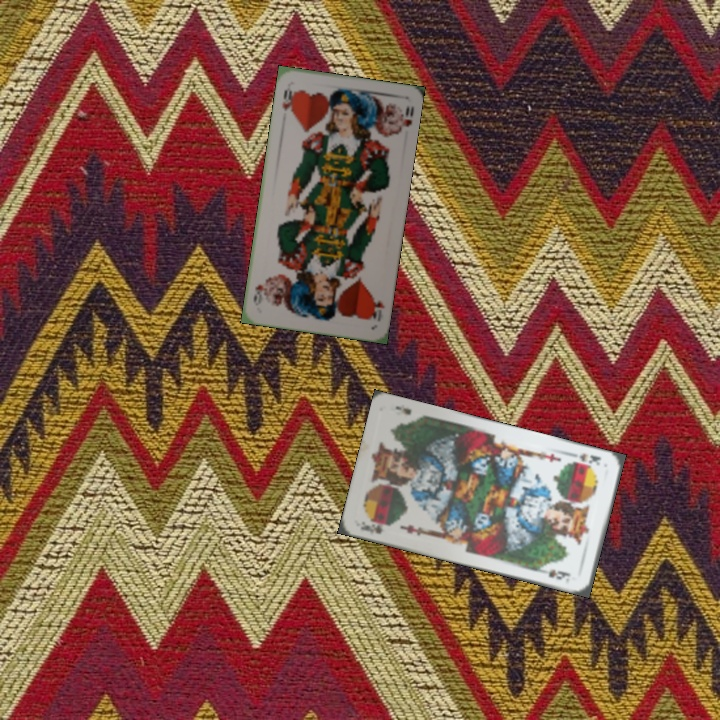HO: (366, 293, 387, 324), (278, 86, 298, 115)
SK: (356, 517, 393, 537), (567, 449, 603, 469)
